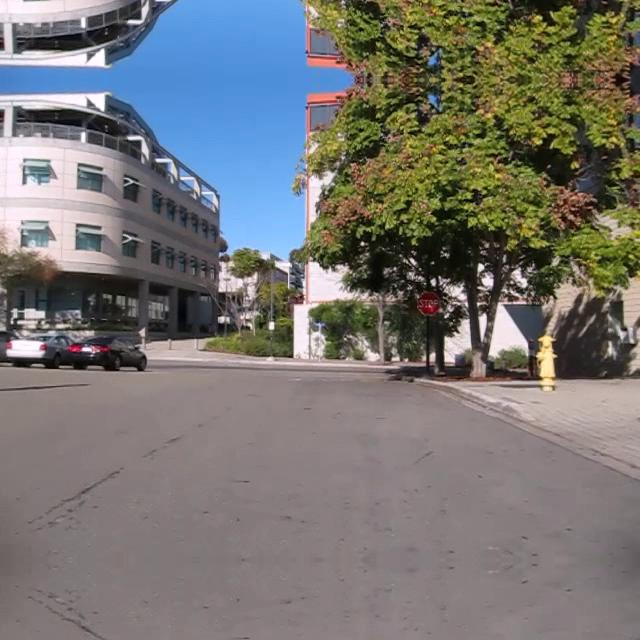stop: (415, 290, 441, 316)
